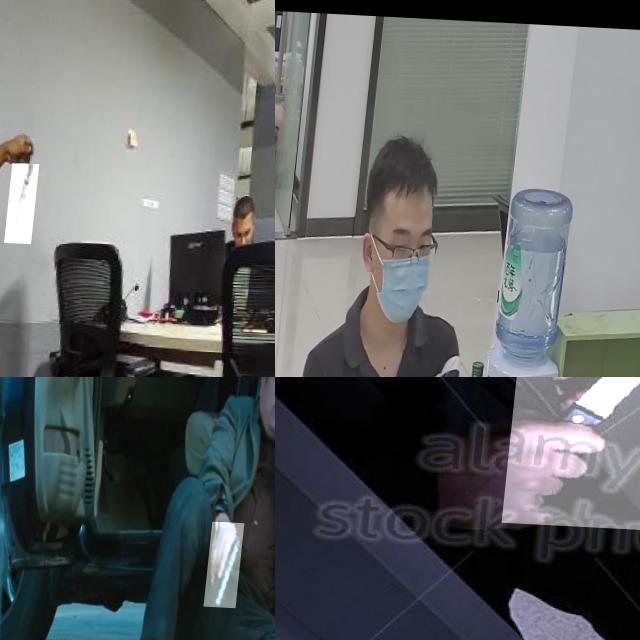-: (509, 377, 640, 532), (13, 160, 46, 240)
gun-knife-thesis - v11 Yolov5 augmented: (214, 517, 253, 604), (128, 377, 166, 410)
